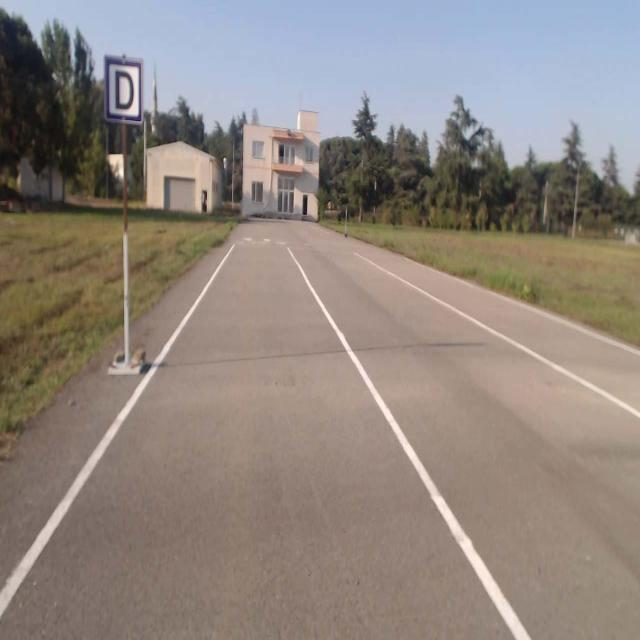durak: (105, 58, 142, 122)
